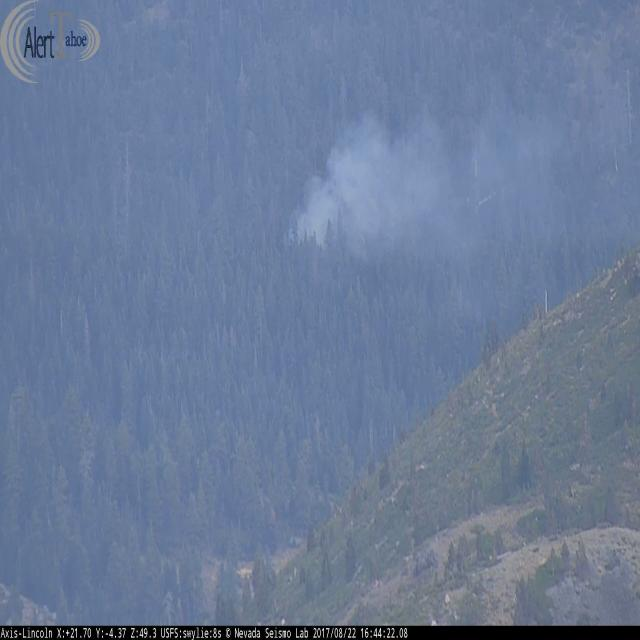smoke: (282, 114, 446, 254)
